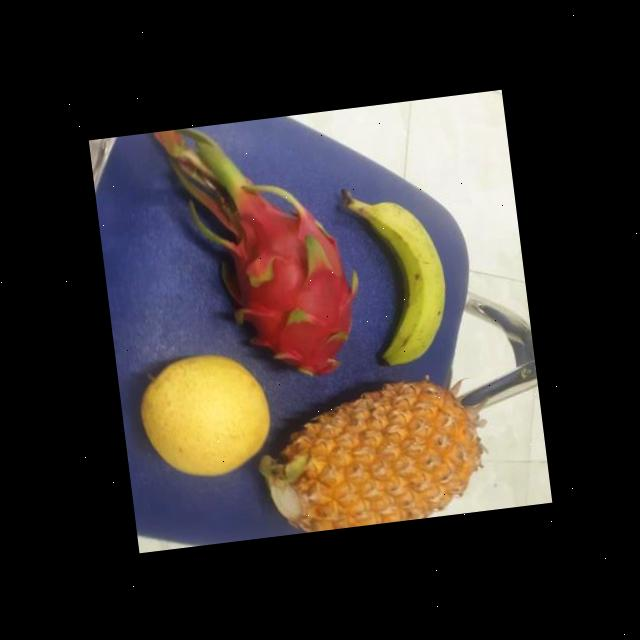banana: (337, 188, 451, 376)
guava: (135, 345, 278, 492)
pineapple: (254, 372, 488, 536)
pitaya: (226, 187, 366, 399)
